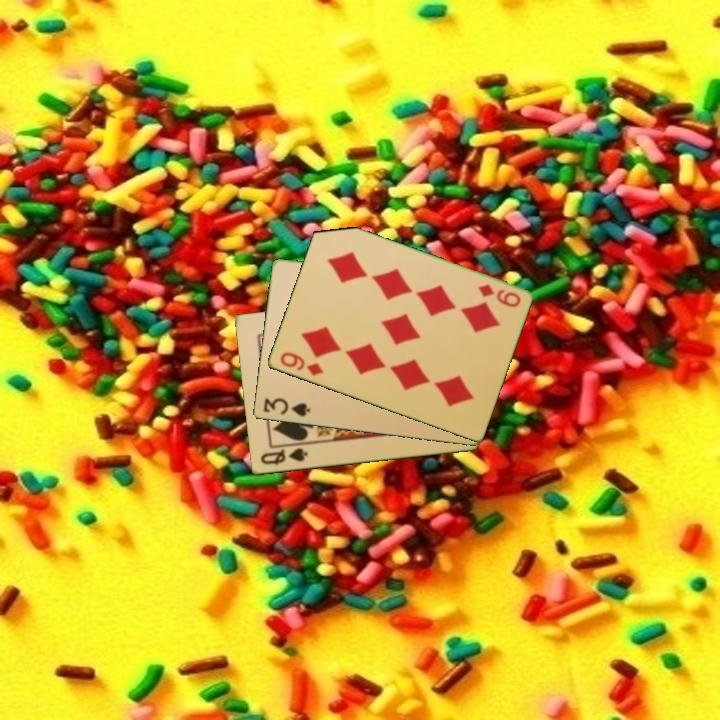3s: (259, 395, 313, 420)
9d: (276, 349, 326, 379), (474, 280, 523, 310)
Qs: (257, 445, 310, 469)
